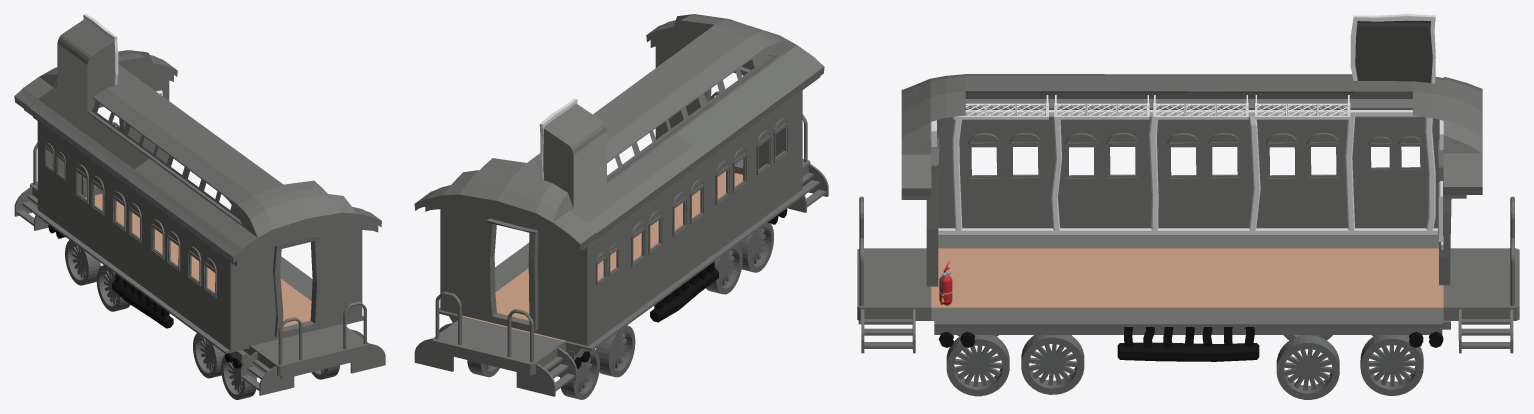
The model's file is Ttrain1-2-export.fbx.
3 views of the same model, side by side, from view 1: azimuth 30°, elevation 25°; view 2: azimuth 150°, elevation 25°; view 3: azimuth 270°, elevation 25° (orthographic). The views are drawn at different scales.
Visible parts, largest first — view 1: leftwall, leftdoor, maintrain, rightdoor, Cube.014, Cylinder.004, Cylinder.001, Cylinder.003, Cylinder.002, Cube.018; view 2: leftwall, rightdoor, maintrain, leftdoor, Cube.014, Cylinder.002, Cylinder.001, Cylinder.004, Cylinder.003, Cube.018; view 3: leftwall, maintrain, Cube.013, rightdoor, Plane.002, leftdoor, Cube.014, Cylinder.002, Cylinder.003, Cylinder.001, Cylinder.004, Cube.018 (+1 smaller).
Part boxes in pixels (left/top/right/bottom): leftwall: left=29, top=19, right=327, bottom=350; leftdoor: left=222, top=194, right=381, bottom=350; maintrain: left=14, top=122, right=385, bottom=395; rightdoor: left=14, top=50, right=177, bottom=197; Cube.014: left=48, top=225, right=242, bottom=368; Cylinder.004: left=221, top=356, right=339, bottom=399; Cylinder.001: left=65, top=240, right=100, bottom=285; Cylinder.003: left=193, top=333, right=224, bottom=378; Cylinder.002: left=96, top=265, right=130, bottom=311; Cube.018: left=83, top=14, right=118, bottom=84; leftwall: left=480, top=14, right=811, bottom=346; rightdoor: left=414, top=170, right=596, bottom=345; maintrain: left=414, top=91, right=828, bottom=396; leftdoor: left=646, top=14, right=824, bottom=174; Cube.014: left=574, top=208, right=787, bottom=368; Cylinder.002: left=596, top=325, right=635, bottom=377; Cylinder.001: left=467, top=349, right=599, bottom=399; Cylinder.004: left=738, top=223, right=773, bottom=272; Cylinder.003: left=706, top=244, right=742, bottom=294; Cube.018: left=539, top=98, right=577, bottom=180; leftwall: left=931, top=20, right=1443, bottom=235; maintrain: left=857, top=196, right=1519, bottom=353; Cube.013: left=938, top=110, right=1437, bottom=235; rightdoor: left=1438, top=77, right=1482, bottom=285; Plane.002: left=953, top=95, right=1350, bottom=119; leftdoor: left=901, top=78, right=939, bottom=286; Cube.014: left=938, top=327, right=1443, bottom=361; Cylinder.002: left=1276, top=335, right=1339, bottom=399; Cylinder.003: left=1021, top=335, right=1084, bottom=394; Cylinder.001: left=1360, top=335, right=1423, bottom=395; Cylinder.004: left=946, top=335, right=1009, bottom=396; Cube.018: left=1350, top=14, right=1435, bottom=83.
Size of the model in its own units: 433 by 712 by 1260.
